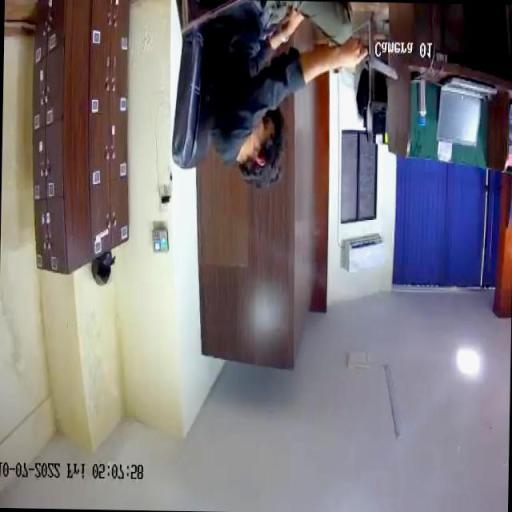knife: (355, 46, 400, 83)
